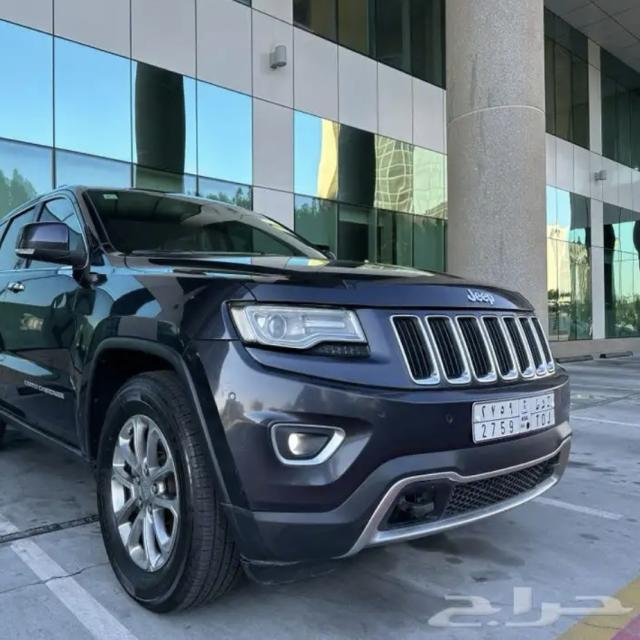license_plate: (469, 395, 561, 453)
